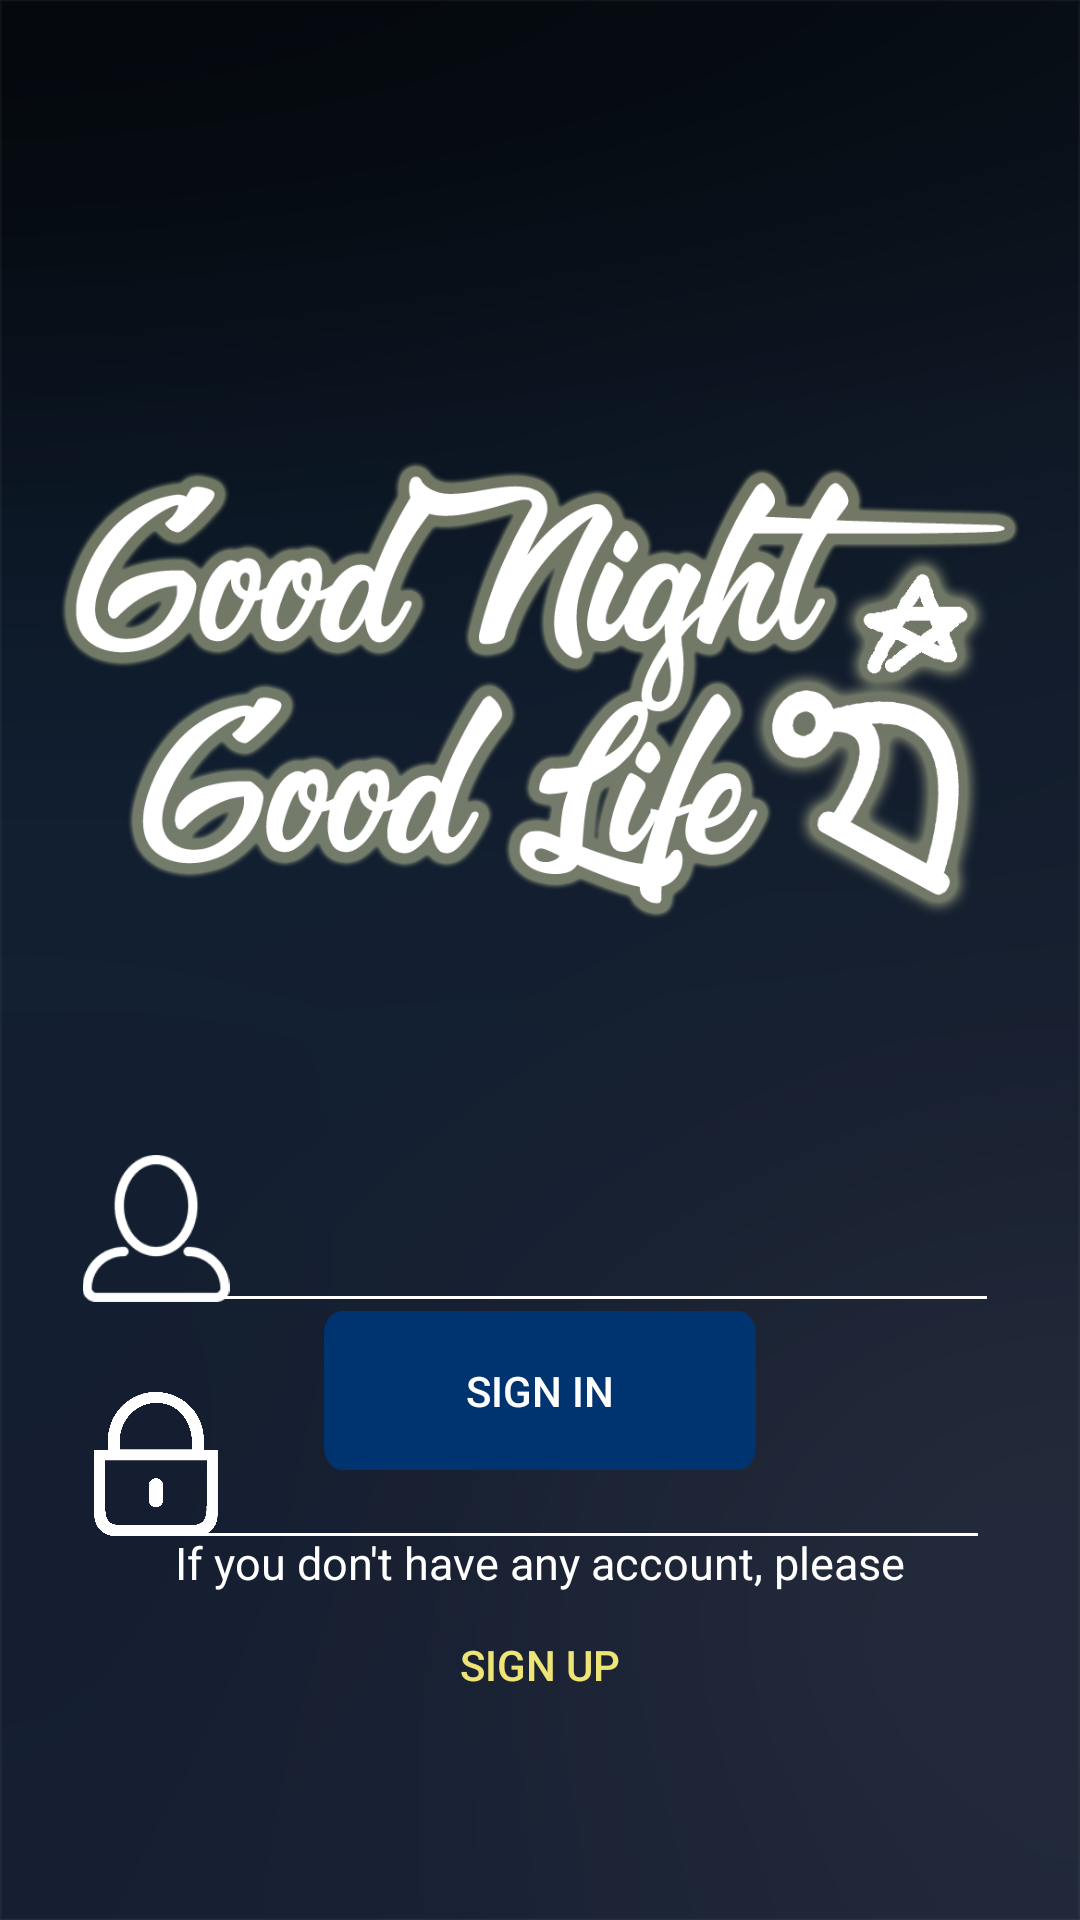

Named icons in this screenshot (1080x1920) and their bounding boxes, (x1, y1, x2, y2):
pass: (94, 1392, 252, 1536)
username: (83, 1155, 252, 1302)
